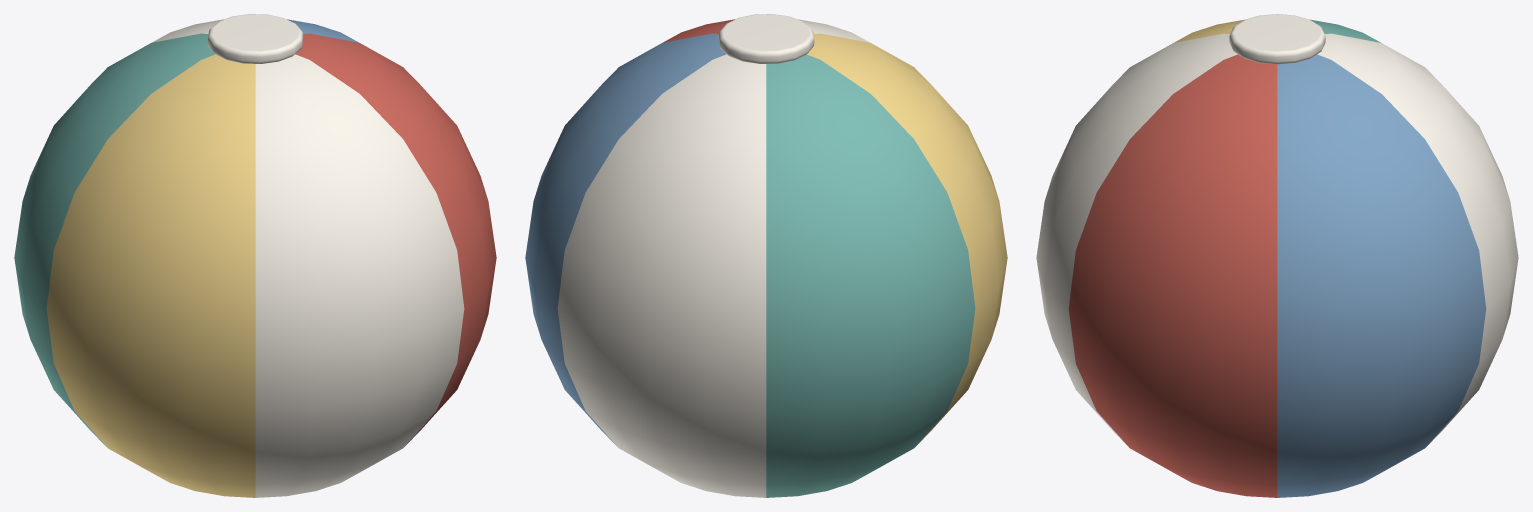
The model's file is beach_ball.glb.
3 renders of one model, left to right at view 1: azimuth 30°, elevation 25°; view 2: azimuth 150°, elevation 25°; view 3: azimuth 270°, elevation 25°, orthographic.
Visible parts, largest first — view 1: beach_ball_mesh; view 2: beach_ball_mesh; view 3: beach_ball_mesh.
Part boxes in pixels (x1=…): beach_ball_mesh: x1=14, y1=14, x2=496, y2=497; beach_ball_mesh: x1=525, y1=14, x2=1007, y2=497; beach_ball_mesh: x1=1036, y1=14, x2=1518, y2=497.
Bounding box in the file's own units: 0.34 × 0.3451 × 0.34.
